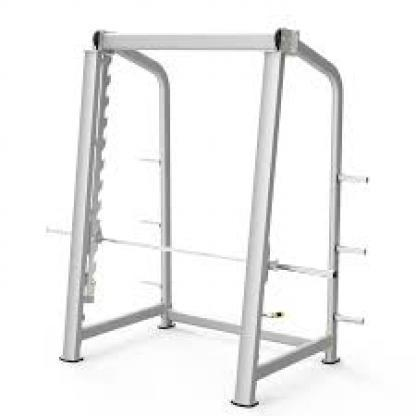smith machine: (43, 27, 367, 409)
